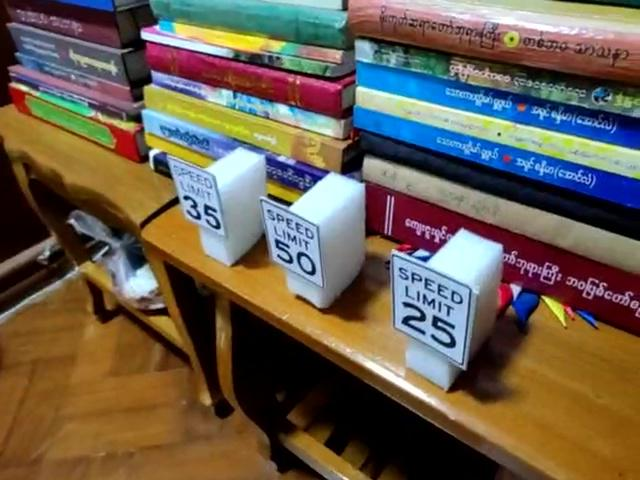Speed Limit 25: (387, 250, 472, 368)
Speed Limit 35: (164, 151, 225, 231)
Speed Limit 50: (258, 198, 325, 287)
